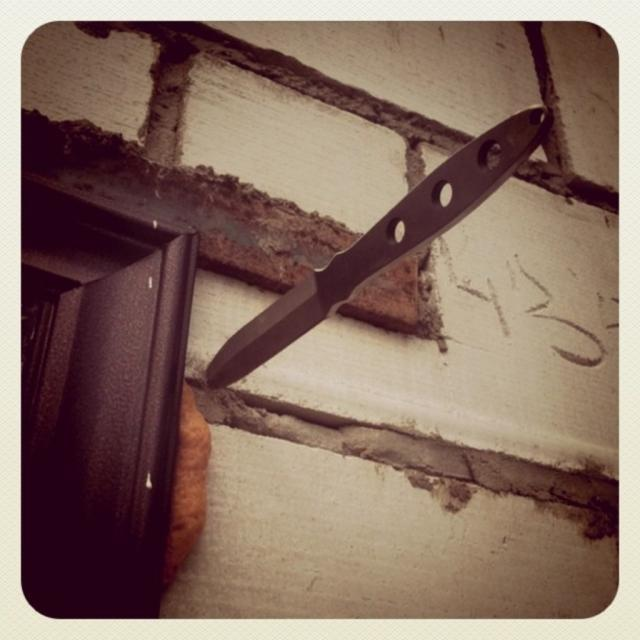Knife: (206, 106, 550, 388)
